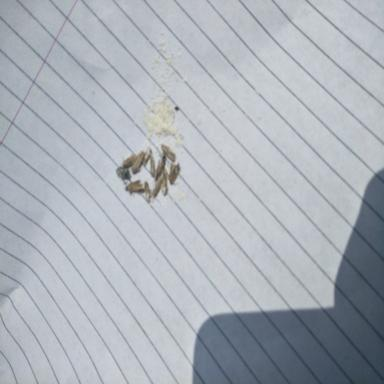pbw: (132, 151, 146, 174), (152, 172, 164, 198), (124, 179, 144, 193), (168, 162, 180, 184), (161, 144, 175, 162), (156, 155, 166, 180), (123, 153, 137, 168), (142, 147, 152, 167), (162, 170, 169, 196), (144, 182, 152, 204), (150, 156, 155, 177)
